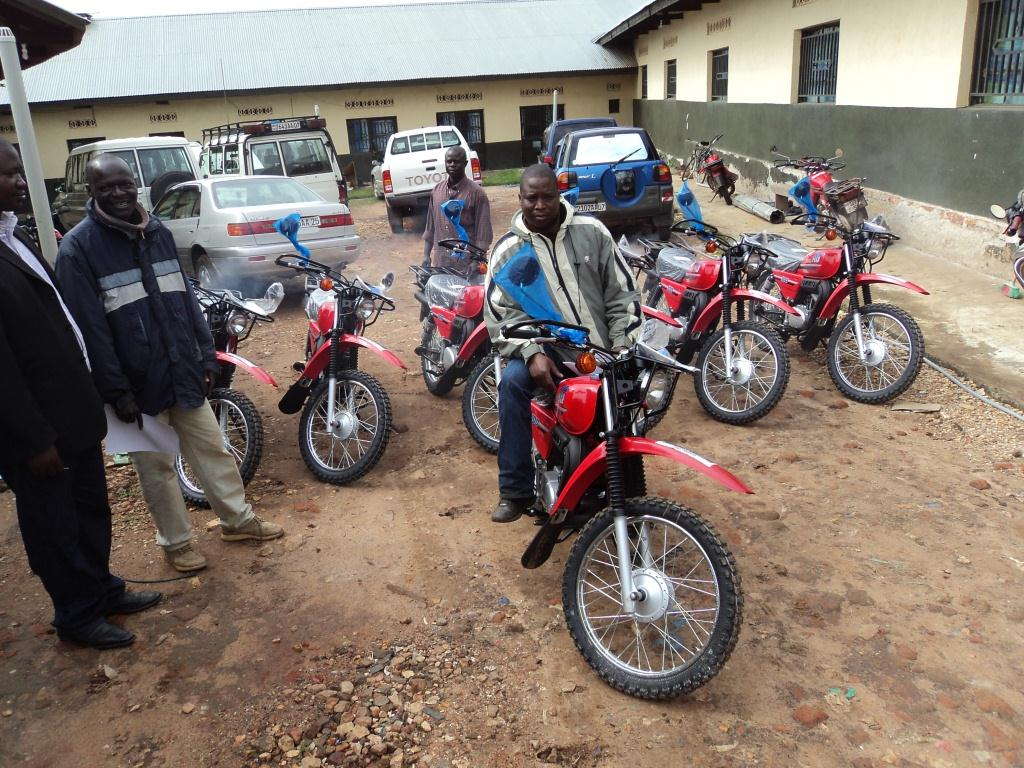motorbike: (507, 336, 748, 709), (407, 246, 569, 497), (745, 205, 949, 401), (278, 250, 412, 494), (640, 230, 799, 432), (779, 144, 913, 270)
